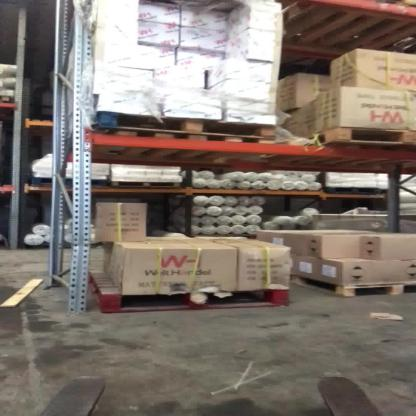vertical_damage: (65, 217, 101, 266)
